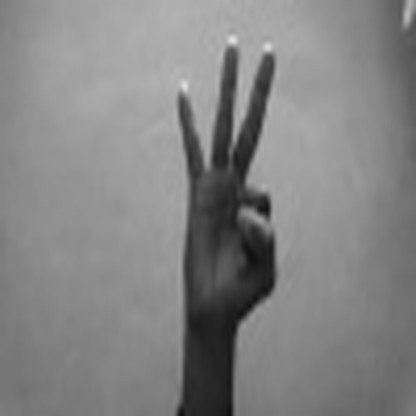f: (151, 32, 298, 337)
